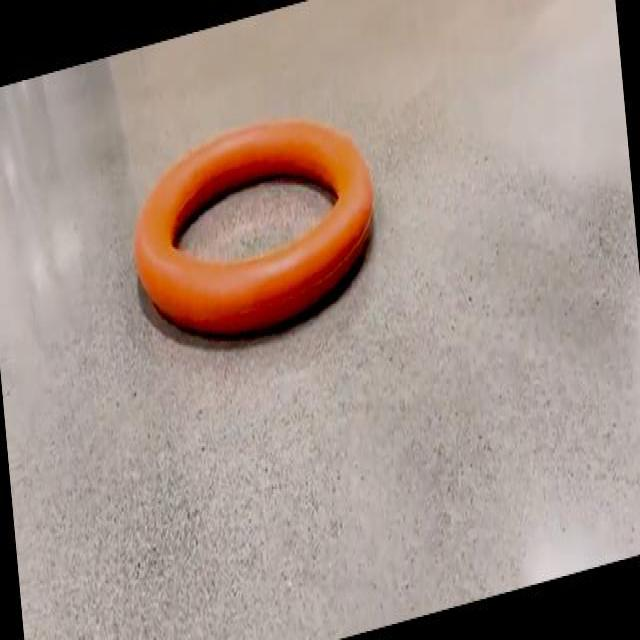note: (134, 119, 374, 334)
